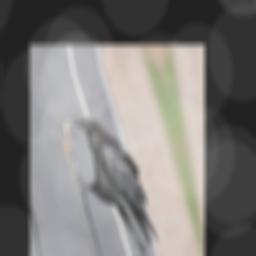Crow: (64, 101, 160, 256)
